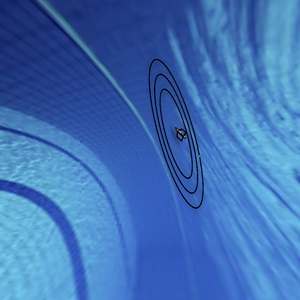circle: (119, 46, 223, 223)
submarine: (173, 119, 191, 150)
